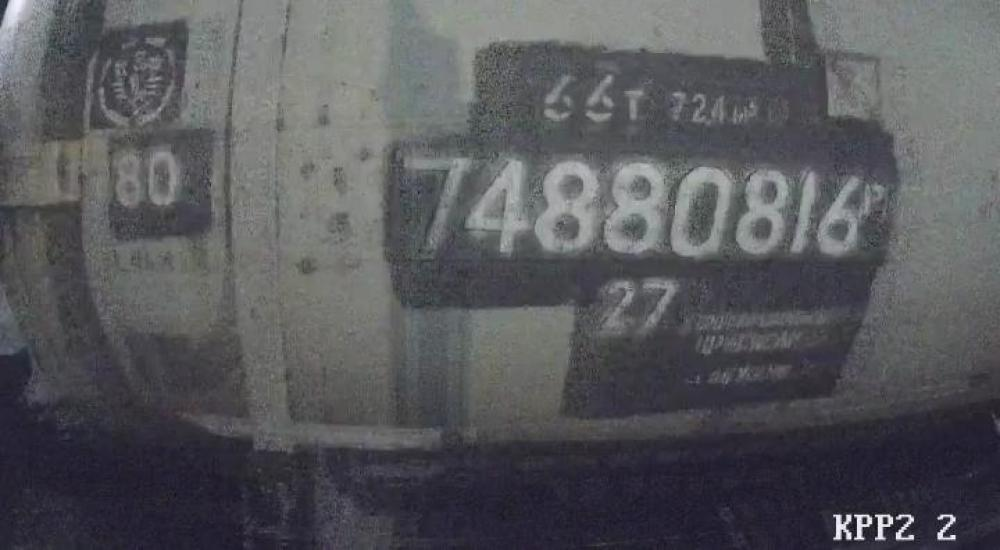Wagon-number: (398, 143, 861, 266)
